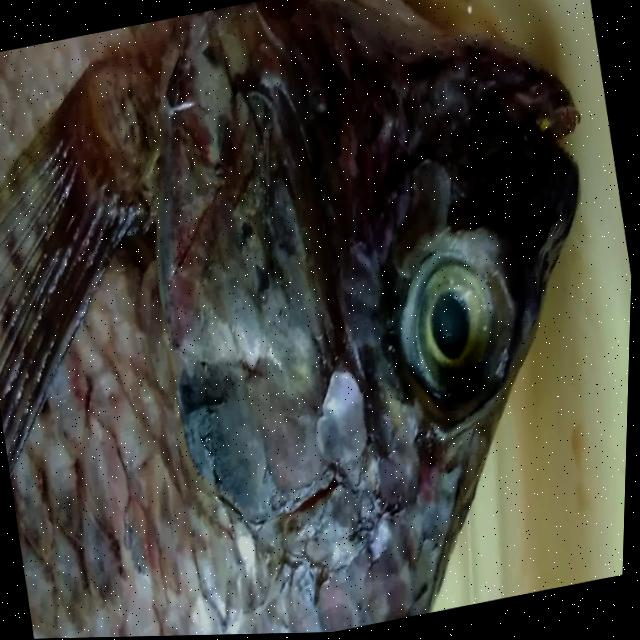Non-Fresh: (0, 0, 422, 640), (362, 218, 526, 442)
